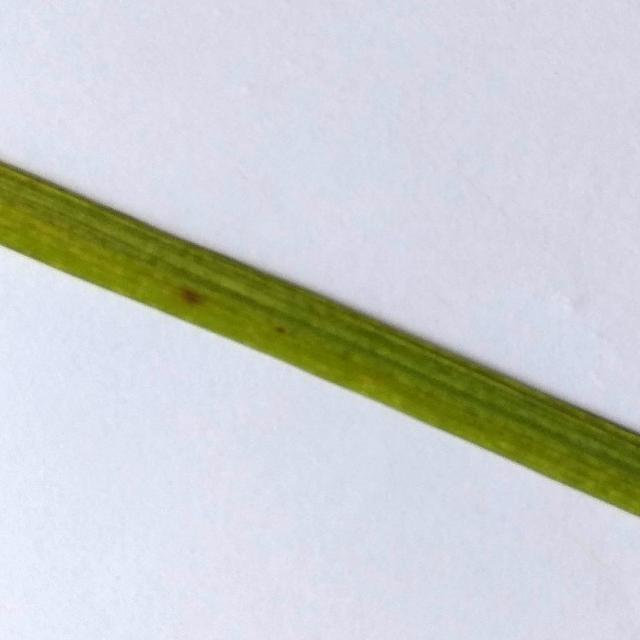brownspots: (165, 270, 218, 316), (254, 317, 302, 344)
